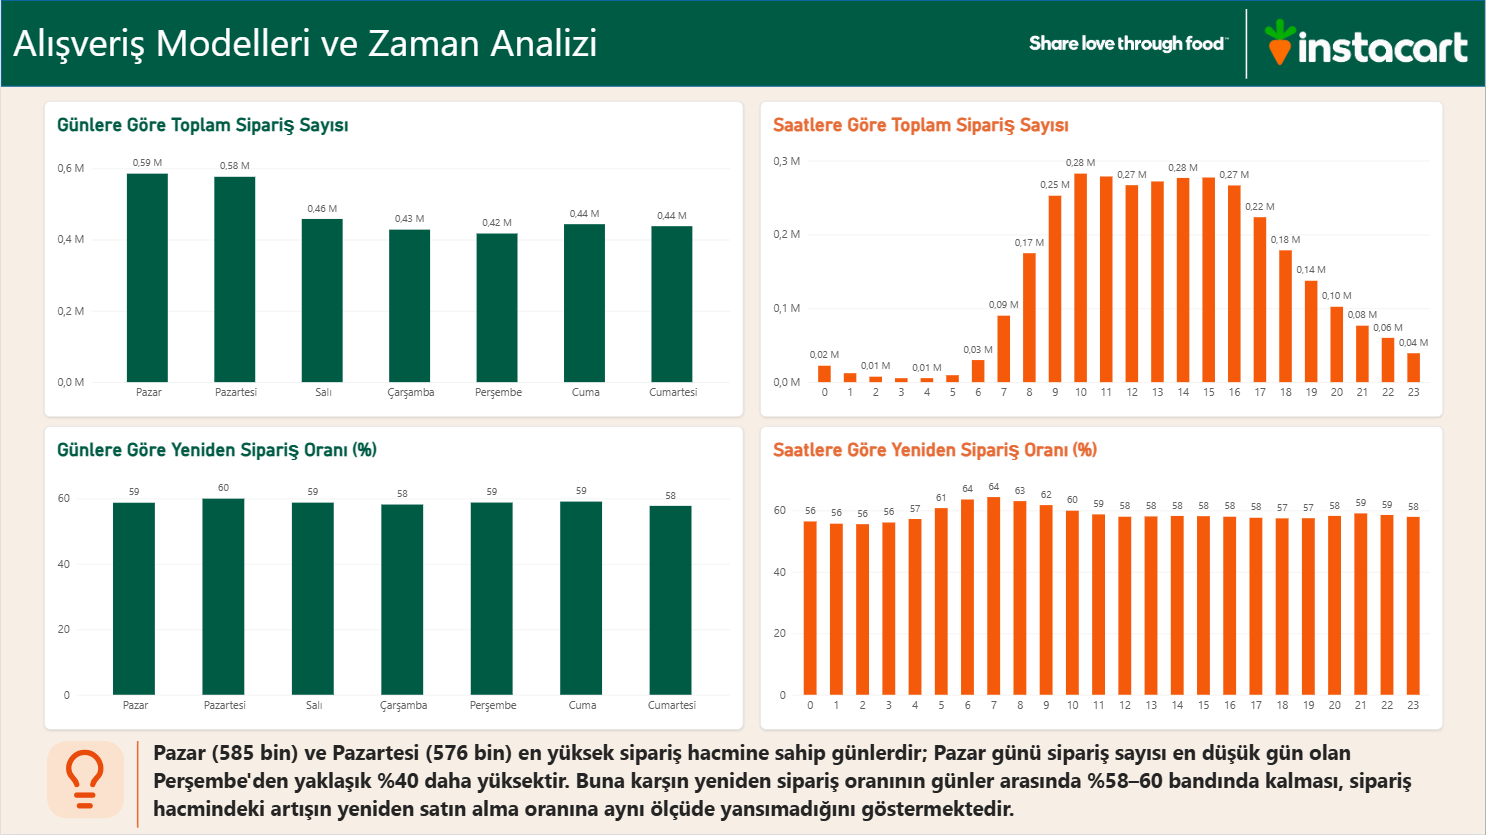

What the dashboard file says about the page in this screenshot:
{"tool":"powerbi","page":{"name":"Alışveriş Modelleri ve Zaman Analizi","canvas":[1920,1080],"ordinal":2},"visuals":[{"type":"image","box":[1323.3,0,271.4,112.3],"z":0,"group":"g1"},{"type":"clusteredColumnChart","title":"Günlere Göre Toplam Sipariş Sayısı","fields":{"Category":["mart_order_time_analysis.Day Name"],"Y":["Sum(mart_order_time_analysis.total_orders)"]},"box":[55.3,130.9,904.7,408.7],"z":0},{"type":"shape","box":[59.6,958.5,100,100],"z":0,"group":"g2"},{"type":"shape","box":[1583,11.7,55.4,90.5],"z":1000,"group":"g1"},{"type":"clusteredColumnChart","title":"Saatlere Göre Toplam Sipariş Sayısı","fields":{"Category":["mart_order_time_analysis.order_hour_of_day"],"Y":["Sum(mart_order_time_analysis.total_orders)"]},"box":[981.8,130.9,884.4,408.7],"z":1000},{"type":"image","box":[48,965.8,120.7,82.9],"z":1000,"group":"g2"},{"type":"clusteredColumnChart","title":"Günlere Göre Yeniden Sipariş Oranı (%)","fields":{"Category":["mart_order_time_analysis.Day Name"],"Y":["Avg(mart_order_time_analysis.reorder_rate)"]},"box":[55.3,551.3,904.7,392.7],"z":2000},{"type":"shape","box":[139.6,958.5,74.2,112],"z":2000,"group":"g2"},{"type":"clusteredColumnChart","title":"Saatlere Göre Yeniden Sipariş Oranı (%)","fields":{"Category":["mart_order_time_analysis.order_hour_of_day"],"Y":["Avg(mart_order_time_analysis.reorder_rate)"]},"box":[981.8,551.3,884.4,392.7],"z":3000},{"type":"shape","box":[0,0,1920.3,112],"z":4000},{"type":"textbox","box":[196.4,954.2,1710.5,112],"z":5000},{"type":"image","box":[1614.6,0,305.4,111.9],"z":6000},{"type":"textbox","box":[16,20.4,860.8,91.9],"z":7000},{"type":"group","id":"g1","title":"Grup 8","box":[1323.3,0,315.1,112.3],"z":8000},{"type":"group","id":"g2","title":"Grup 1","box":[48,958.5,165.8,112],"z":9000}]}

Visuals, with their boxes in screenshot pixels (x1, y1, x2, y2), scaled from the page's 1920x1080 canvas onto the 1486x835 screenshot:
image: l=1024, t=0, r=1234, b=87
"Günlere Göre Toplam Sipariş Sayısı" clusteredColumnChart: l=43, t=101, r=743, b=417
shape: l=46, t=741, r=124, b=818
shape: l=1225, t=9, r=1268, b=79
"Saatlere Göre Toplam Sipariş Sayısı" clusteredColumnChart: l=760, t=101, r=1444, b=417
image: l=37, t=747, r=131, b=811
"Günlere Göre Yeniden Sipariş Oranı (%)" clusteredColumnChart: l=43, t=426, r=743, b=730
shape: l=108, t=741, r=165, b=828
"Saatlere Göre Yeniden Sipariş Oranı (%)" clusteredColumnChart: l=760, t=426, r=1444, b=730
shape: l=0, t=0, r=1485, b=87
textbox: l=152, t=738, r=1476, b=824
image: l=1250, t=0, r=1485, b=87
textbox: l=12, t=16, r=679, b=87
"Grup 8" group: l=1024, t=0, r=1268, b=87
"Grup 1" group: l=37, t=741, r=165, b=828
